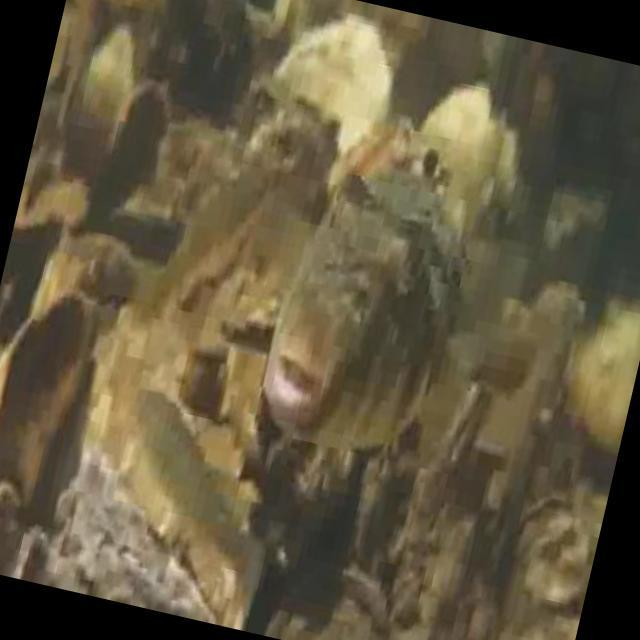Oyster- Indeterminate: (12, 467, 220, 623), (28, 234, 141, 467), (276, 16, 385, 145), (421, 83, 505, 213), (265, 566, 396, 640), (572, 303, 640, 439), (516, 493, 587, 616), (70, 37, 133, 174), (242, 110, 327, 199), (492, 132, 520, 220), (0, 481, 15, 575)
Oyster-Open: (171, 234, 250, 325), (410, 145, 446, 188)
